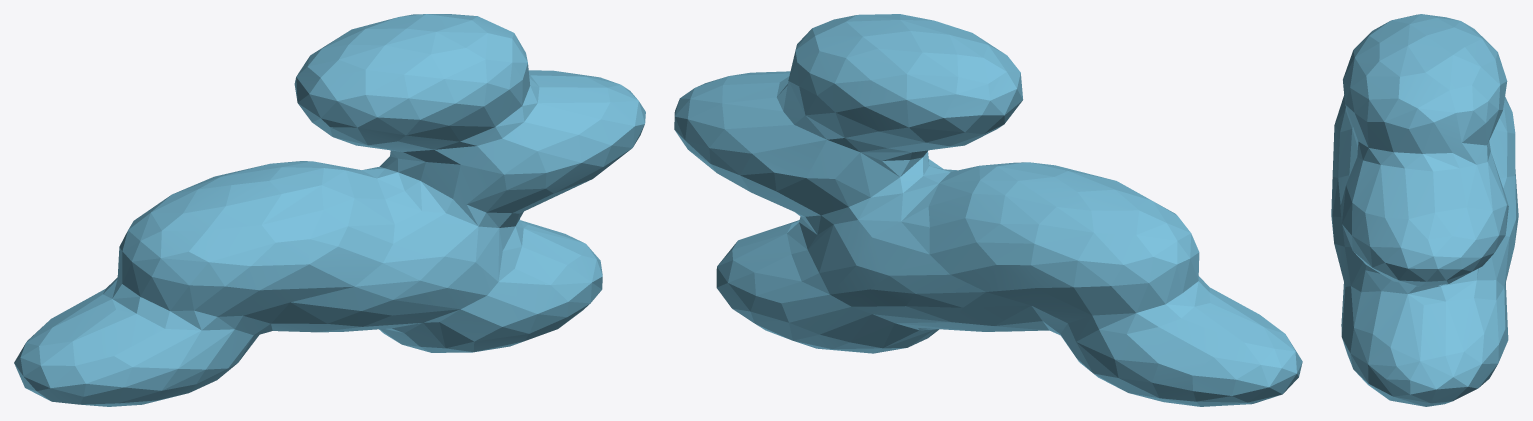
Rendered from oval_cloud_10.fbx.
3 renders of one model, left to right at view 1: azimuth 30°, elevation 25°; view 2: azimuth 150°, elevation 25°; view 3: azimuth 270°, elevation 25°, orthographic. The views are drawn at different scales.
Visible parts, largest first — view 1: cloud_70; view 2: cloud_70; view 3: cloud_70.
Part boxes in pixels (x1,y1,x2,y2): cloud_70: [14, 14, 645, 406]; cloud_70: [674, 14, 1302, 406]; cloud_70: [1331, 14, 1518, 406].
Bounding box in the file's own units: 801 × 405 × 221.
